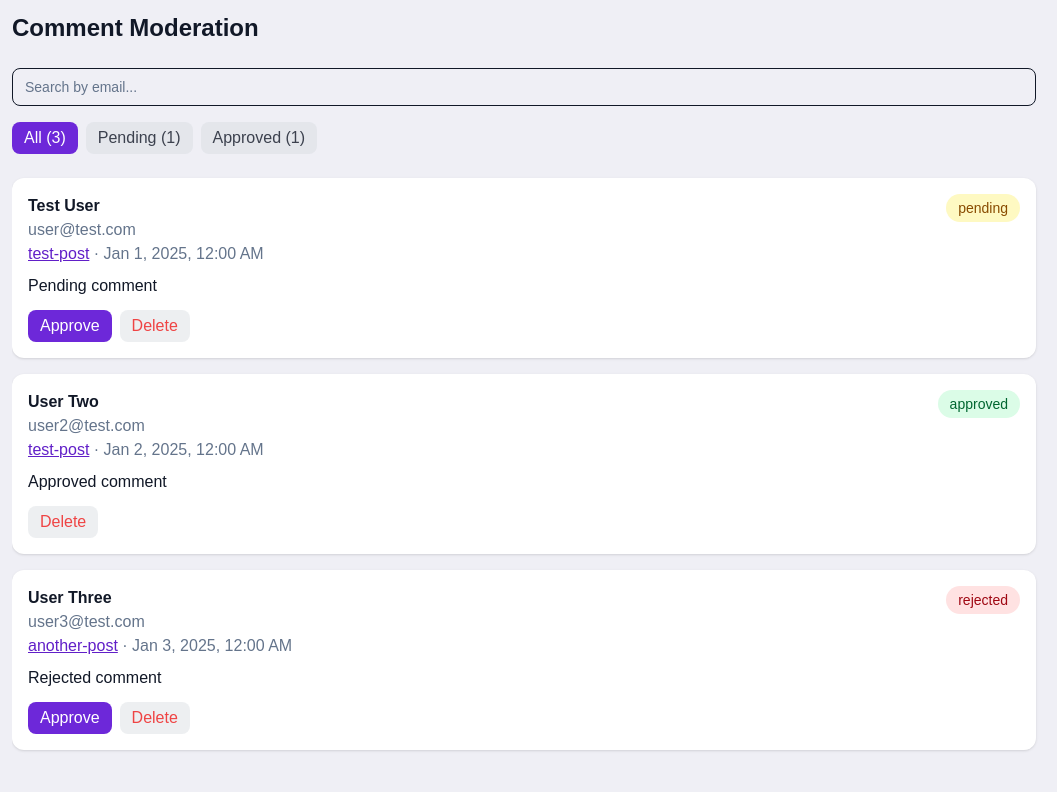
Test case: ModerationPanel › shows validation error when Delete all is clicked with invalid email
Type "user" into the field with placeholder "Search by email..." at [524, 87], box top-left (12, 68), bottom-right (1036, 106)
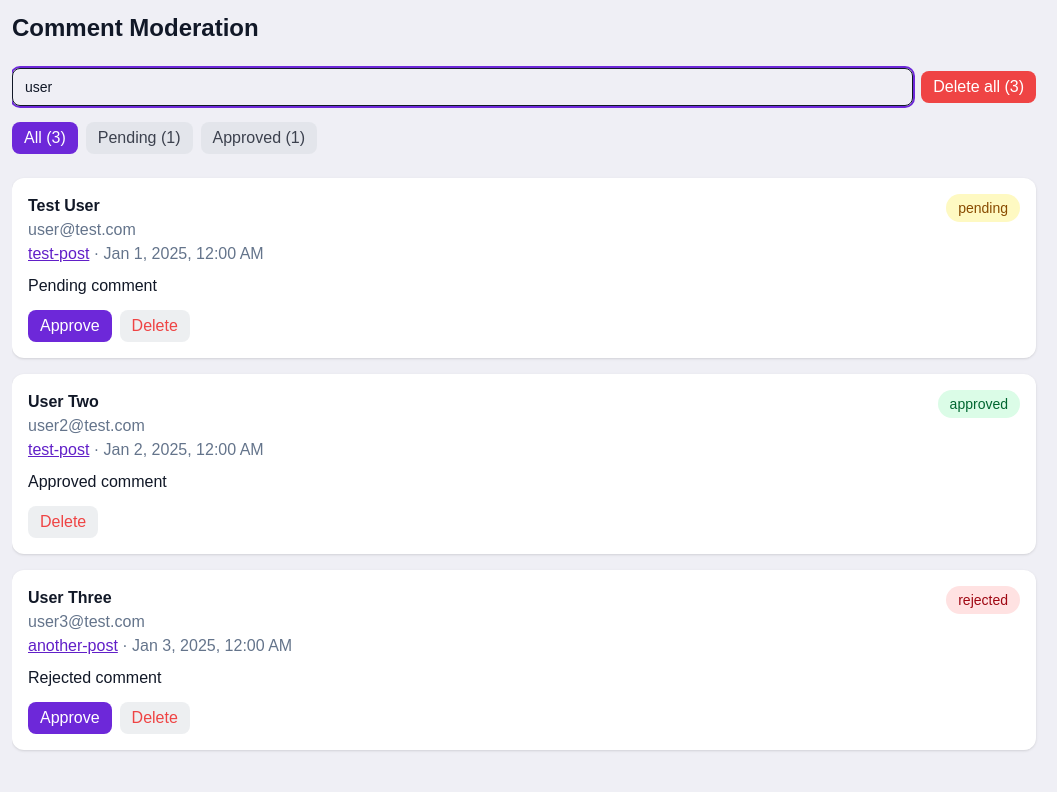
Click the button "Delete all (3)" at [979, 87], box top-left (921, 71), bottom-right (1036, 103)
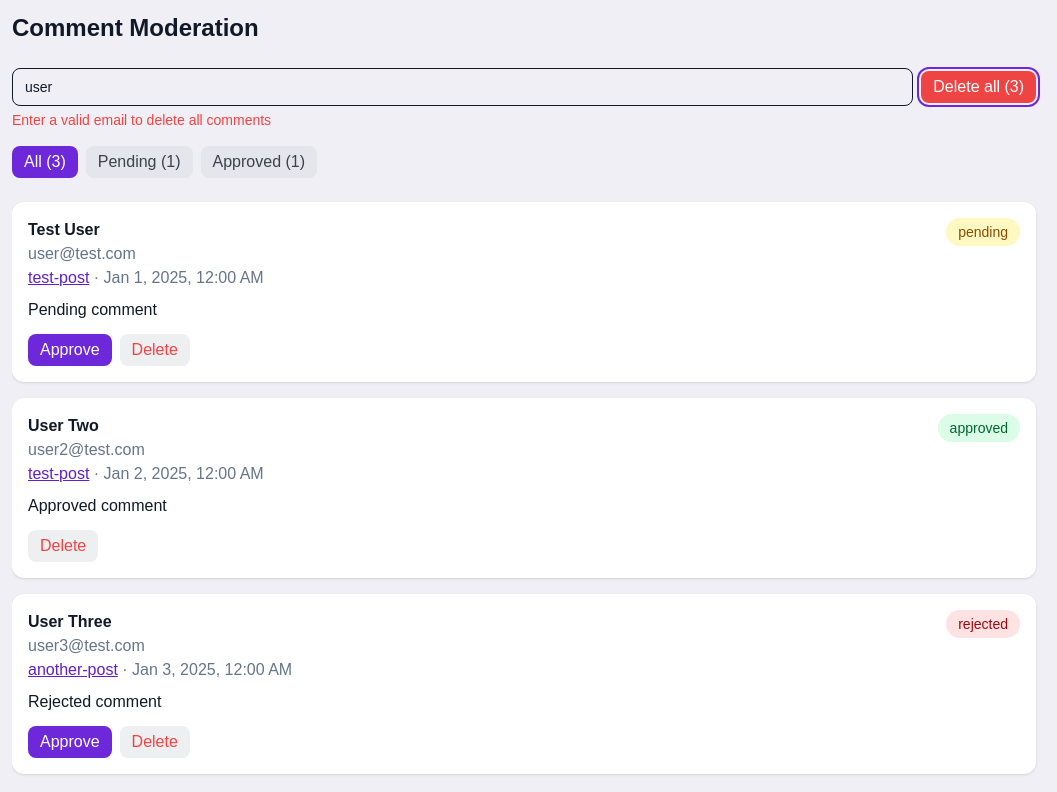
Now the text "Enter a valid email to delete all comments" is shown, box top-left (12, 112), bottom-right (271, 128)
